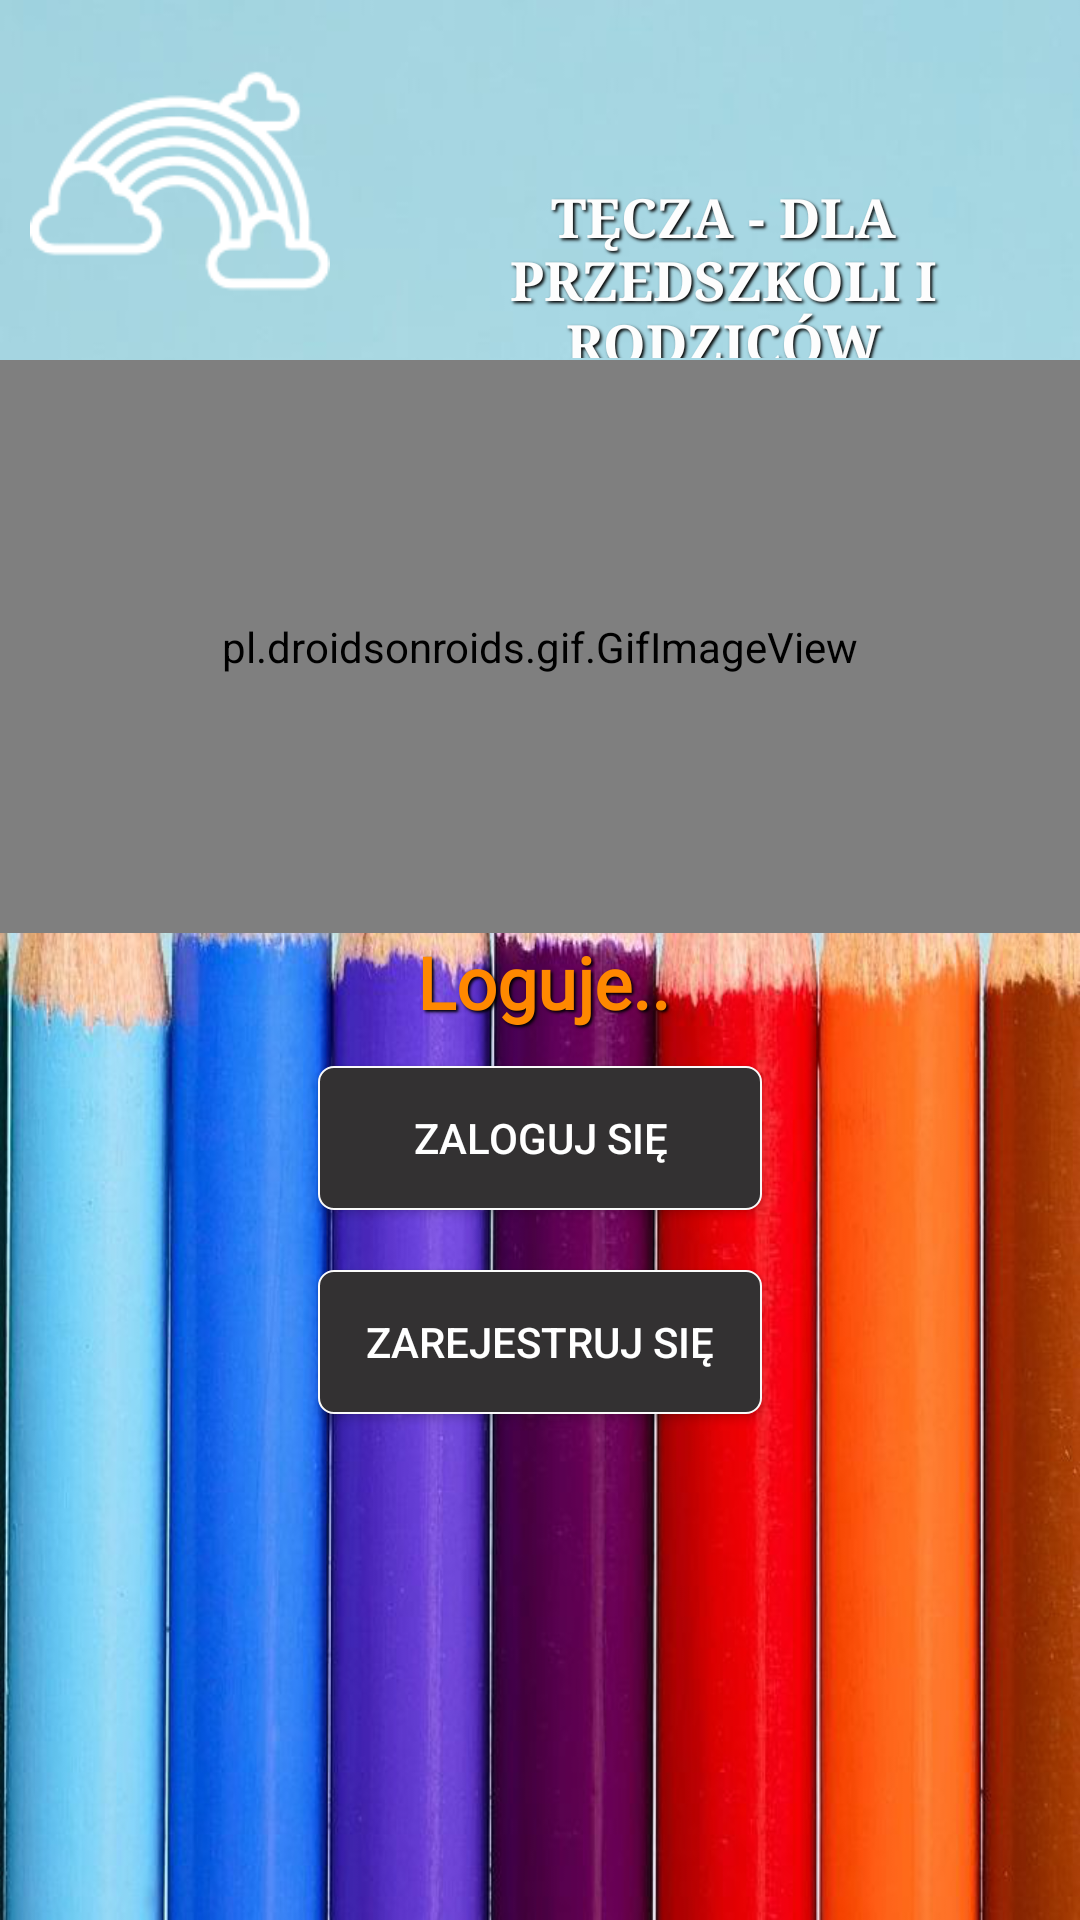

Icon bounding boxes for this 1080 × 1920 phone screenshot, format (x1, y1, x2, y2):
rainbow: (30, 72, 330, 290)
